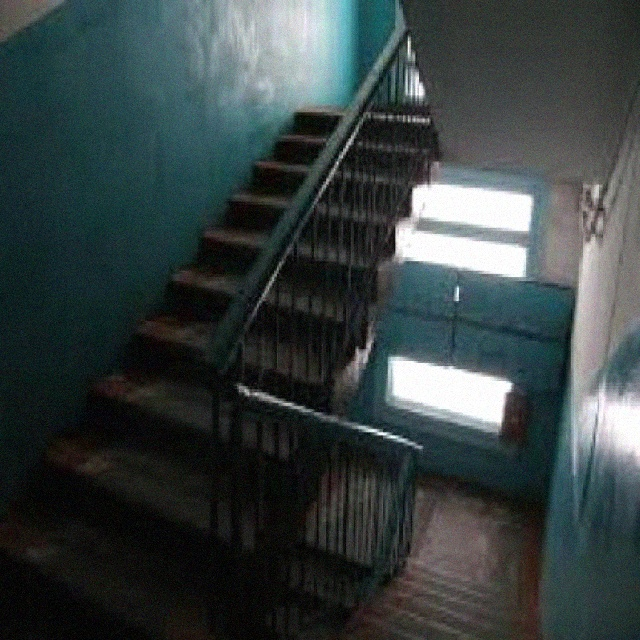stair: (2, 55, 406, 637), (320, 548, 568, 637)
